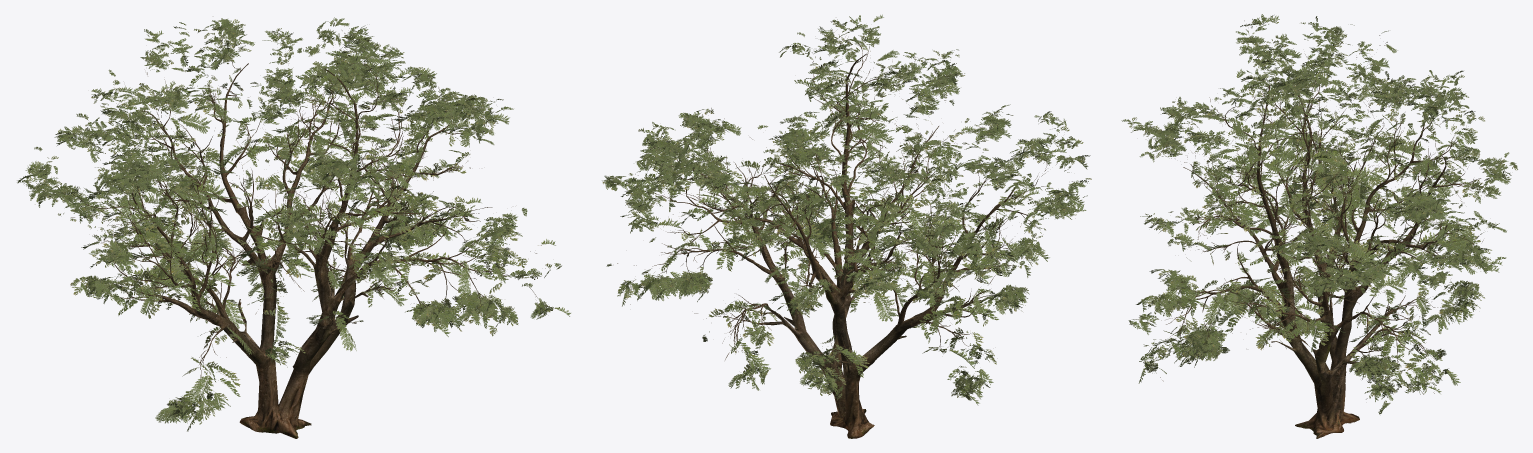
File: tree.glb
3 renders of one model, left to right at view 1: azimuth 30°, elevation 25°; view 2: azimuth 150°, elevation 25°; view 3: azimuth 270°, elevation 25°, orthographic. The views are drawn at different scales.
Visible parts, largest first — view 1: tree (×2); view 2: tree (×2); view 3: tree (×2).
Part boxes in pixels (left/top/right/bottom): tree (×2): left=17, top=17, right=570, bottom=438; tree (×2): left=602, top=14, right=1091, bottom=438; tree (×2): left=1121, top=14, right=1517, bottom=438.
Bounding box in the file's own units: 24.27 × 19.44 × 18.57.
3 materials, 3 textured.
